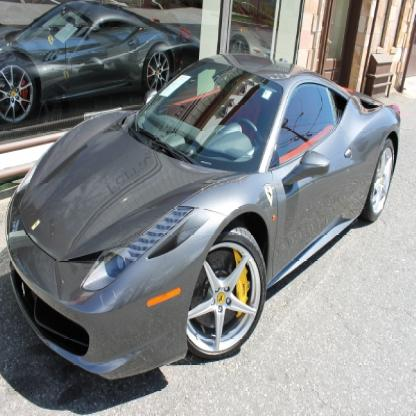Vehicle: (6, 57, 402, 381)
